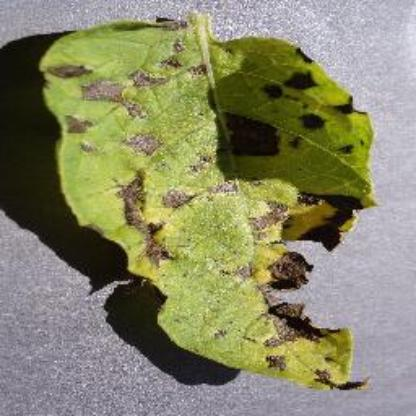Early-Blight: (34, 11, 386, 391)
